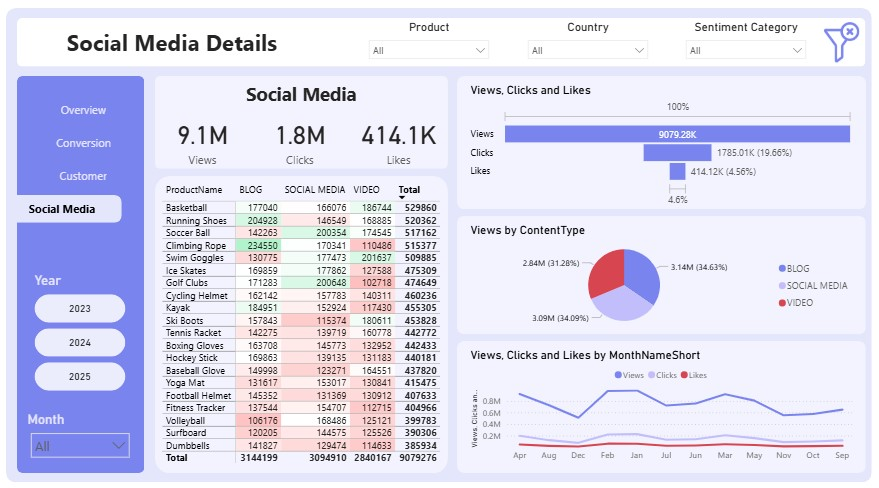

Layout of this report page (visuals, bound fields, positions):
{"tool":"powerbi","page":{"name":"Social Media Details","canvas":[1280,720],"ordinal":3},"visuals":[{"type":"shape","box":[16.7,18.3,1246.7,683.3],"z":0},{"type":"shape","box":[33.3,33.3,1221.7,70],"z":1000},{"type":"shape","box":[33.3,116.7,183.3,571.7],"z":2000},{"type":"textbox","box":[33.1,40.3,446.4,56.2],"z":3000},{"type":"advancedSlicerVisual","fields":{"Values":["Calendar.Year"]},"box":[53.3,398.3,141.7,178.3],"z":4000},{"type":"slicer","title":"Month","fields":{"Values":["Calendar.Date.Variation.Date Hierarchy.Month"]},"box":[43.3,598.3,161.7,68.3],"z":5000},{"type":"actionButton","box":[16.7,145,166.7,40],"z":6000},{"type":"actionButton","box":[16.7,240,166.7,40],"z":7000},{"type":"actionButton","box":[16.7,288.3,166.7,40],"z":8000},{"type":"actionButton","box":[16.7,193.3,166.7,40],"z":9000},{"type":"image","box":[1186.7,33.3,68.3,70],"z":10000},{"type":"slicer","title":"Product","fields":{"Values":["dim_products.ProductName"]},"box":[530,36.7,193.3,65],"z":11000},{"type":"slicer","title":"Sentiment Category","fields":{"Values":["fact_customer_reviews_with_sentiment.SentimentCategory"]},"box":[986.7,36.7,193.3,65],"z":12000},{"type":"slicer","title":"Country","fields":{"Values":["dim_customers.Country"]},"box":[758.3,36.7,193.3,65],"z":13000},{"type":"shape","box":[666.2,318.8,588.8,170],"z":14000},{"type":"pieChart","fields":{"Category":["fact_engagement_data.ContentType"],"Y":["_Calculations.Views"]},"box":[681.2,328.8,562.5,160],"z":15000},{"type":"shape","box":[231.8,116.4,421.8,133.6],"z":16000},{"type":"shape","box":[231.8,260,421.8,428.2],"z":18000},{"type":"textbox","box":[232.1,117.9,421.2,56.2],"z":19000},{"type":"card","fields":{"Values":["_Calculations.Views"]},"box":[231.8,166.4,136.4,83.6],"z":20000},{"type":"card","fields":{"Values":["_Calculations.Clicks"]},"box":[368.2,166.4,143.6,83.6],"z":21000},{"type":"card","fields":{"Values":["_Calculations.Likes"]},"box":[512.7,166.4,140,83.6],"z":22000},{"type":"shape","box":[666.2,498.8,588.8,190],"z":23000},{"type":"pivotTable","fields":{"Rows":["dim_products.ProductName"],"Values":["_Calculations.Views"],"Columns":["fact_engagement_data.ContentType"]},"box":[238.2,266.4,415.5,415.5],"z":24000},{"type":"shape","box":[666.4,116.4,589.1,191.8],"z":25000},{"type":"funnel","fields":{"Y":["_Calculations.Views","_Calculations.Clicks","_Calculations.Likes"]},"box":[681.7,126.7,561.7,181.7],"z":26000},{"type":"lineChart","fields":{"Y":["_Calculations.Views","_Calculations.Clicks","_Calculations.Likes"],"Category":["Calendar.MonthNameShort"]},"box":[681.2,508.8,562.5,172.5],"z":26001}]}

Visuals, with their boxes in screenshot pixels (x1, y1, x2, y2), scaled from the page's 1280x720 canvas onto the 879x488 screenshot:
shape: bbox=(11, 12, 868, 476)
shape: bbox=(23, 23, 862, 70)
shape: bbox=(23, 79, 149, 467)
textbox: bbox=(23, 27, 329, 65)
advancedSlicerVisual - Calendar.Year: bbox=(37, 270, 134, 391)
"Month" slicer: bbox=(30, 406, 141, 452)
actionButton: bbox=(11, 98, 126, 125)
actionButton: bbox=(11, 163, 126, 190)
actionButton: bbox=(11, 195, 126, 223)
actionButton: bbox=(11, 131, 126, 158)
image: bbox=(815, 23, 862, 70)
"Product" slicer: bbox=(364, 25, 497, 69)
"Sentiment Category" slicer: bbox=(678, 25, 810, 69)
"Country" slicer: bbox=(521, 25, 653, 69)
shape: bbox=(457, 216, 862, 331)
pieChart - fact_engagement_data.ContentType x _Calculations.Views: bbox=(468, 223, 854, 331)
shape: bbox=(159, 79, 449, 169)
shape: bbox=(159, 176, 449, 466)
textbox: bbox=(159, 80, 449, 118)
card - _Calculations.Views: bbox=(159, 113, 253, 169)
card - _Calculations.Clicks: bbox=(253, 113, 351, 169)
card - _Calculations.Likes: bbox=(352, 113, 448, 169)
shape: bbox=(457, 338, 862, 467)
pivotTable - dim_products.ProductName x _Calculations.Views: bbox=(164, 181, 449, 462)
shape: bbox=(458, 79, 862, 209)
funnel - _Calculations.Views x _Calculations.Clicks: bbox=(468, 86, 854, 209)
lineChart - _Calculations.Views x _Calculations.Clicks: bbox=(468, 345, 854, 462)
